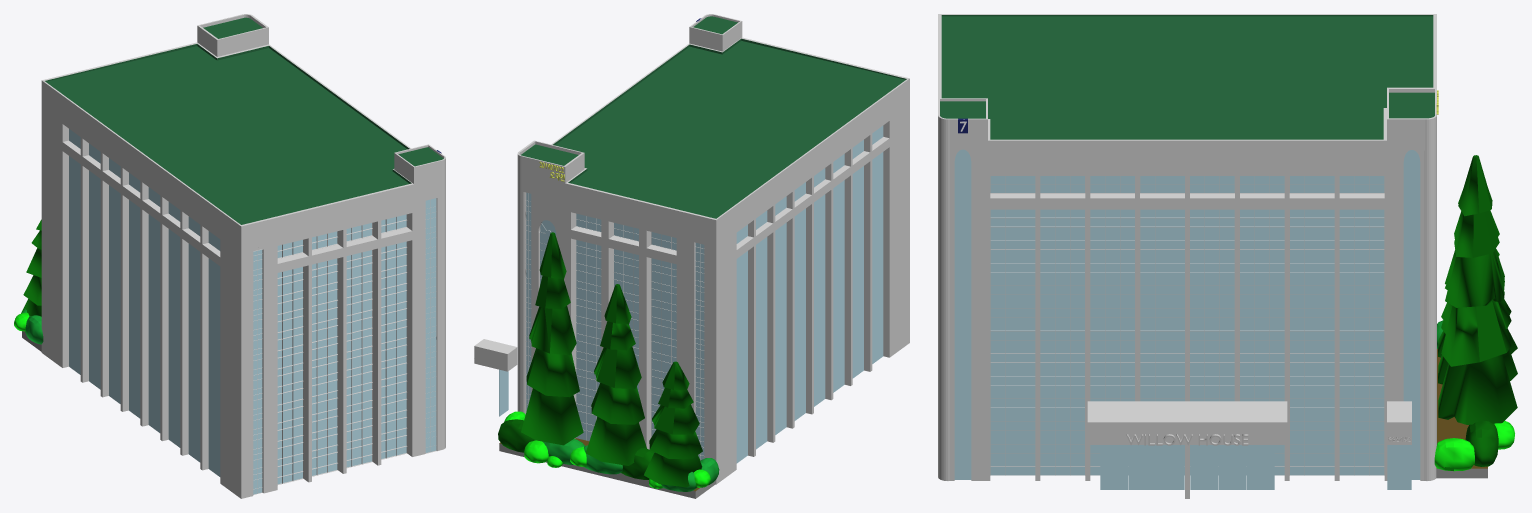
The model's file is 7ho_fix.glb.
3 views of the same model, side by side, from view 1: azimuth 30°, elevation 25°; view 2: azimuth 150°, elevation 25°; view 3: azimuth 270°, elevation 25° (orthographic). The views are drawn at different scales.
Visible parts, largest first — view 1: B7, Plane.003, Plane.001, Plane.005, Plane.004; view 2: B7, Plane.003, Plane, Plane.010, Plane.008; view 3: B7, Plane.002, Plane.006, Plane.007.
Boxes of the visible parts, x1,y1,x2,y2 form: B7: [14, 14, 445, 498]; Plane.003: [69, 129, 220, 476]; Plane.001: [277, 214, 406, 484]; Plane.005: [425, 198, 436, 452]; Plane.004: [253, 249, 262, 494]; B7: [474, 14, 909, 498]; Plane.003: [736, 125, 883, 463]; Plane: [576, 213, 676, 441]; Plane.010: [695, 243, 704, 459]; Plane.008: [526, 192, 531, 411]; B7: [938, 14, 1517, 498]; Plane.002: [990, 176, 1384, 475]; Plane.006: [954, 149, 971, 479]; Plane.007: [1403, 150, 1420, 479].
Size of the model in its own units: 157 by 160 by 232.
